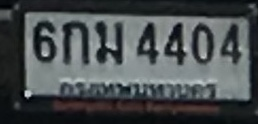num6: (31, 20, 57, 63)
txt01: (60, 20, 91, 66)
txt28: (93, 20, 124, 66)
